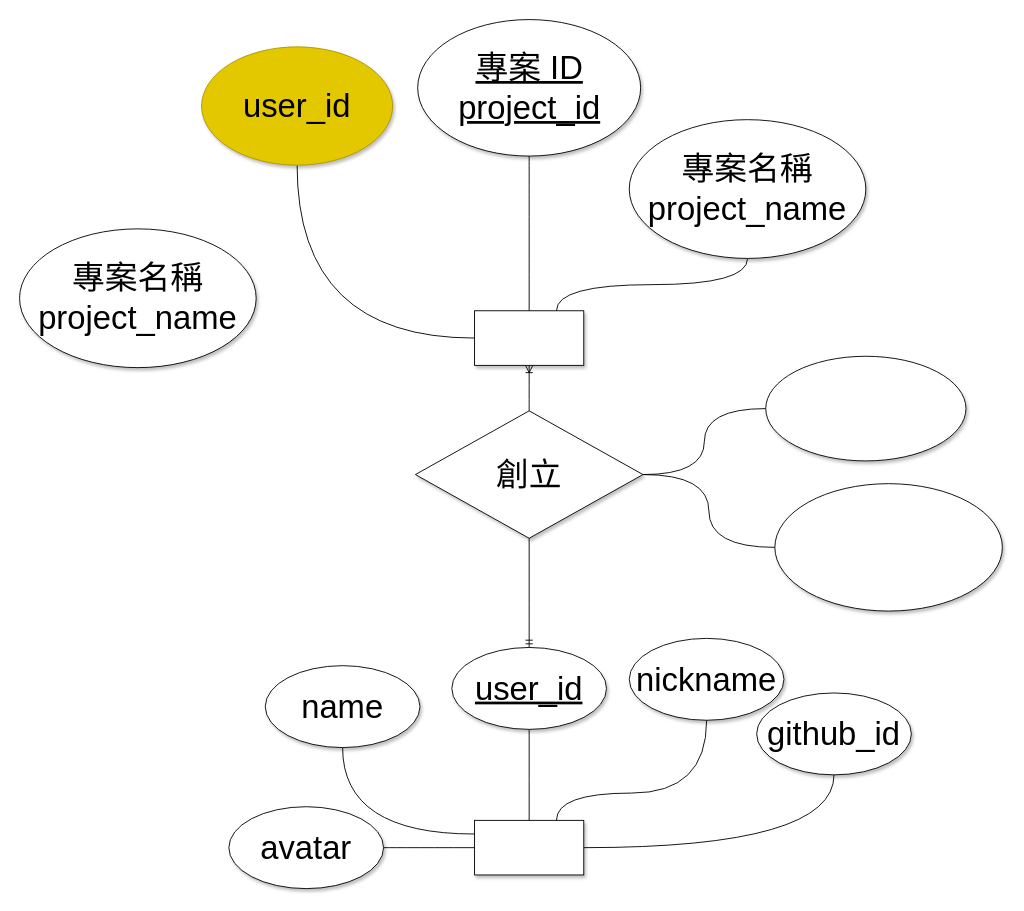
Image size: 1024x911. Some labels were removed from this diagram. Here are the shapes that lost their labels. From the top down, the centre of each, then its label:
At [529,339]: "project".
At [866,409]: "創立時間 create_at".
At [889,548]: "最後編輯時間 last_update".
At [529,848]: "users".
